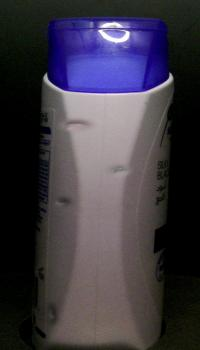dent_unacceptable: (37, 300, 75, 333), (92, 158, 136, 178), (58, 113, 96, 136), (50, 195, 84, 214)
